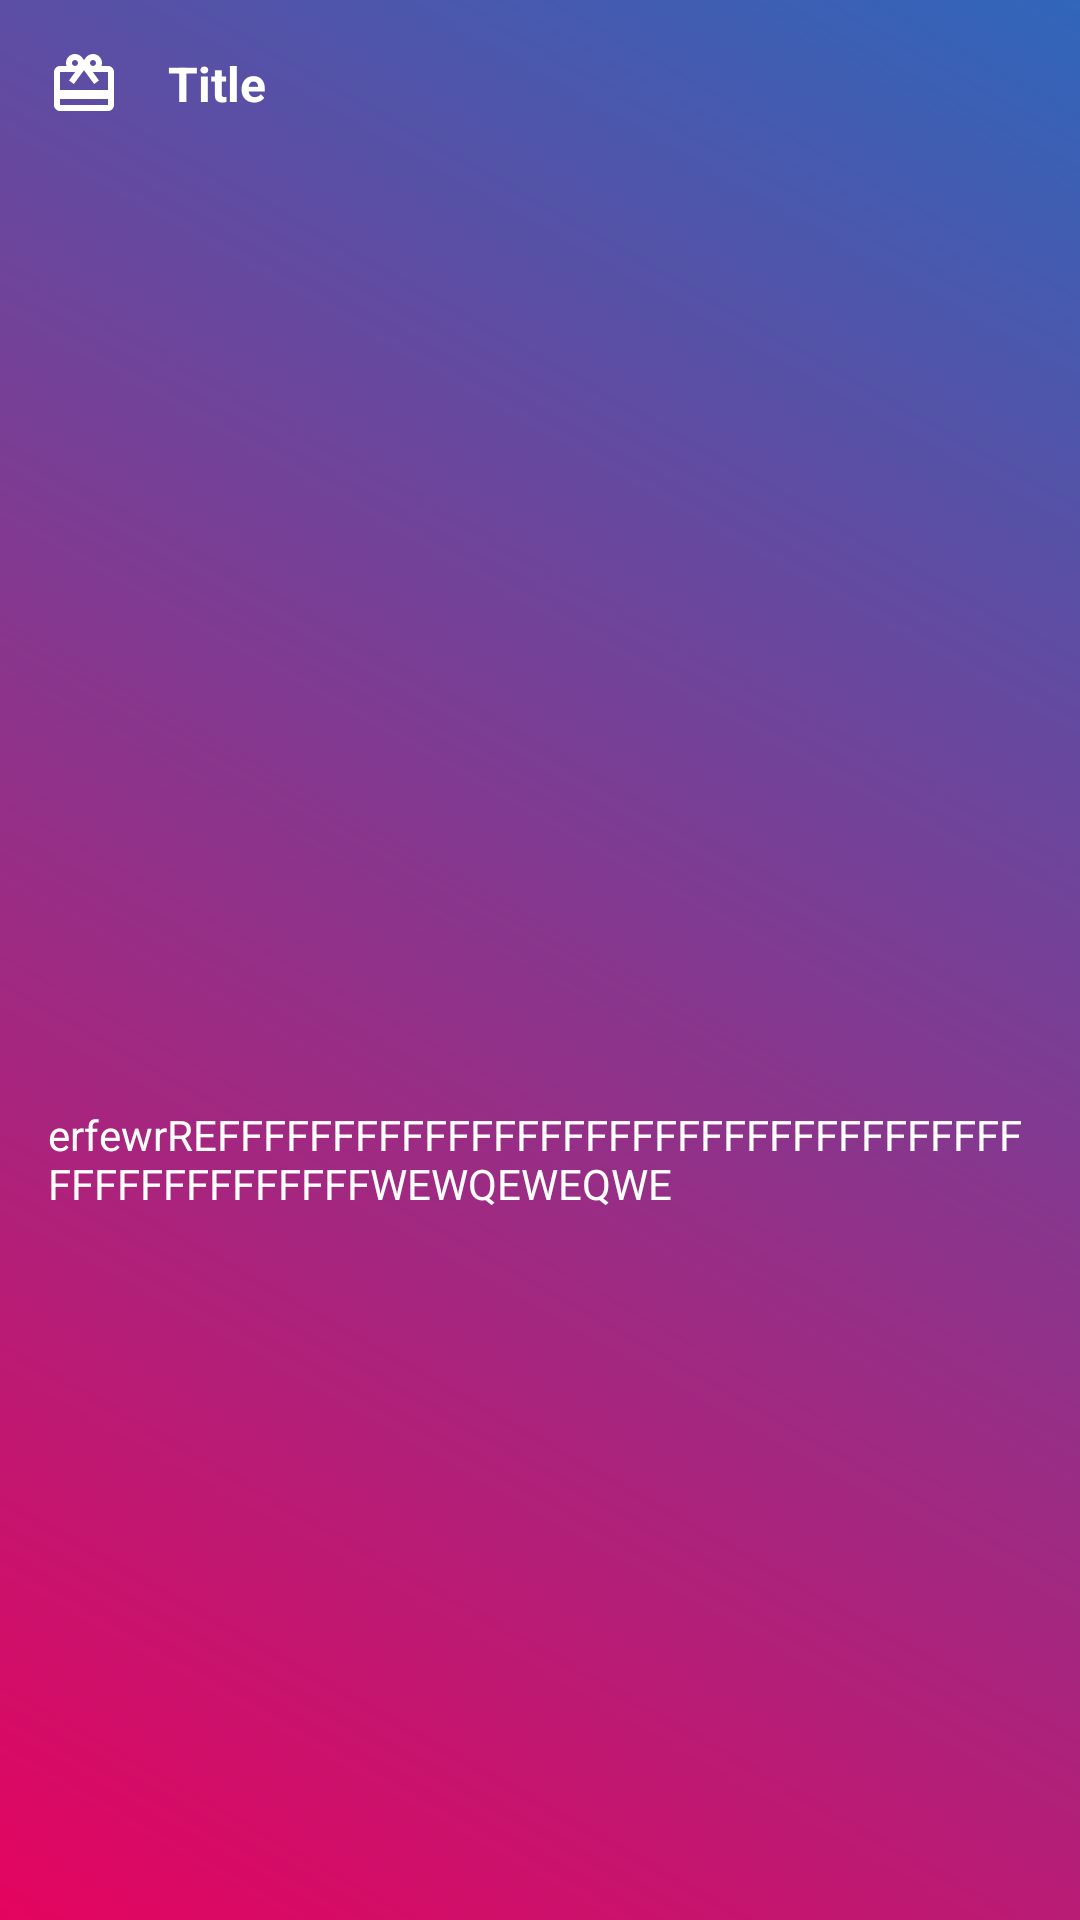

Where to tap for icons on this 1080*1920 app screen, as point (x, y):
card giftcard: point (84, 82)
